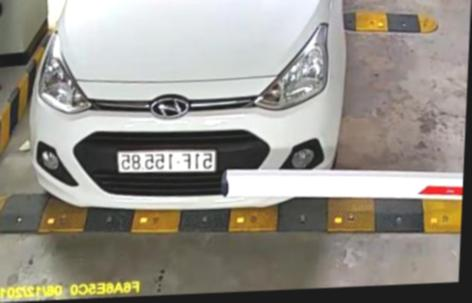License_Plate: (115, 147, 216, 184)
